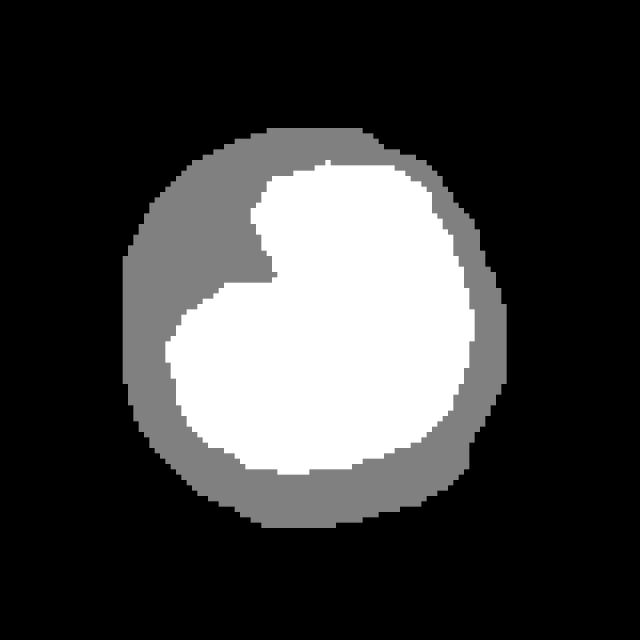WBC: (117, 123, 523, 544)
